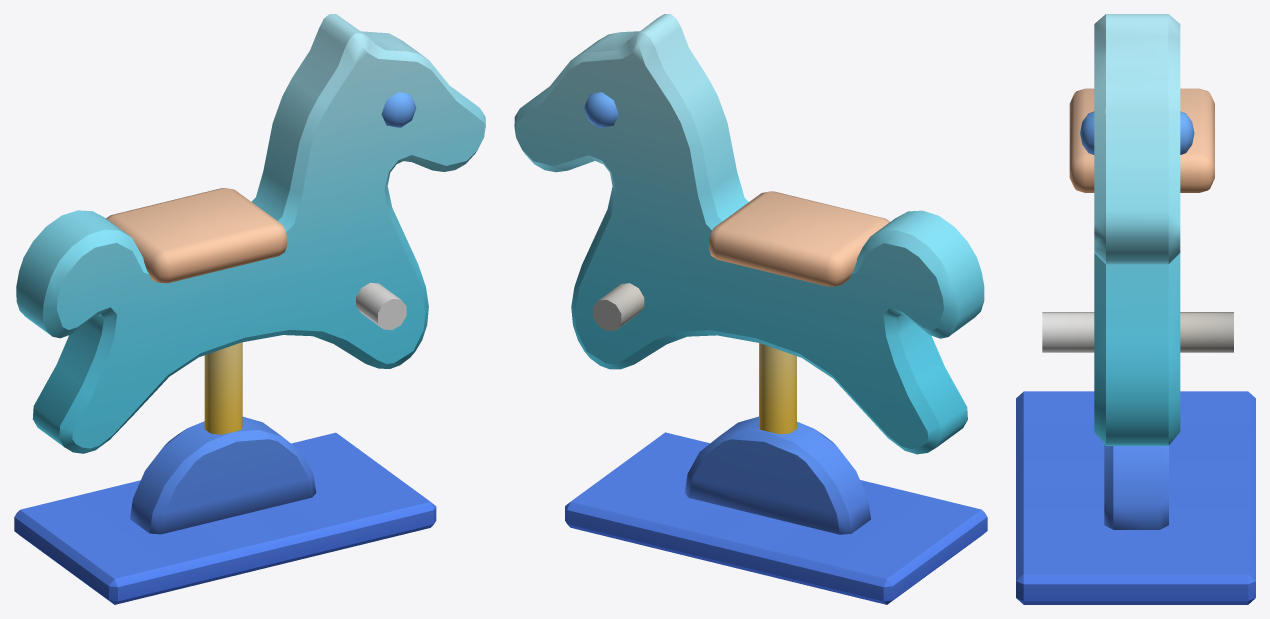
The model's file is Seesaw_a.fbx.
The picture shows the model from 3 angles, left to right: view 1: azimuth 30°, elevation 25°; view 2: azimuth 150°, elevation 25°; view 3: azimuth 270°, elevation 25°; orthographic projection. The views are drawn at different scales.
Parts seen in each view (by area): view 1: Seesaw_a, Seesaw_a_01; view 2: Seesaw_a, Seesaw_a_01; view 3: Seesaw_a, Seesaw_a_01.
Boxes of the visible parts, <box> form: Seesaw_a: <box>16,14,485,453</box>; Seesaw_a_01: <box>14,416,436,604</box>; Seesaw_a: <box>514,14,984,454</box>; Seesaw_a_01: <box>565,416,987,604</box>; Seesaw_a: <box>1042,14,1233,445</box>; Seesaw_a_01: <box>1016,391,1255,604</box>.
Size of the model in its own units: 151 by 156 by 59.88.
